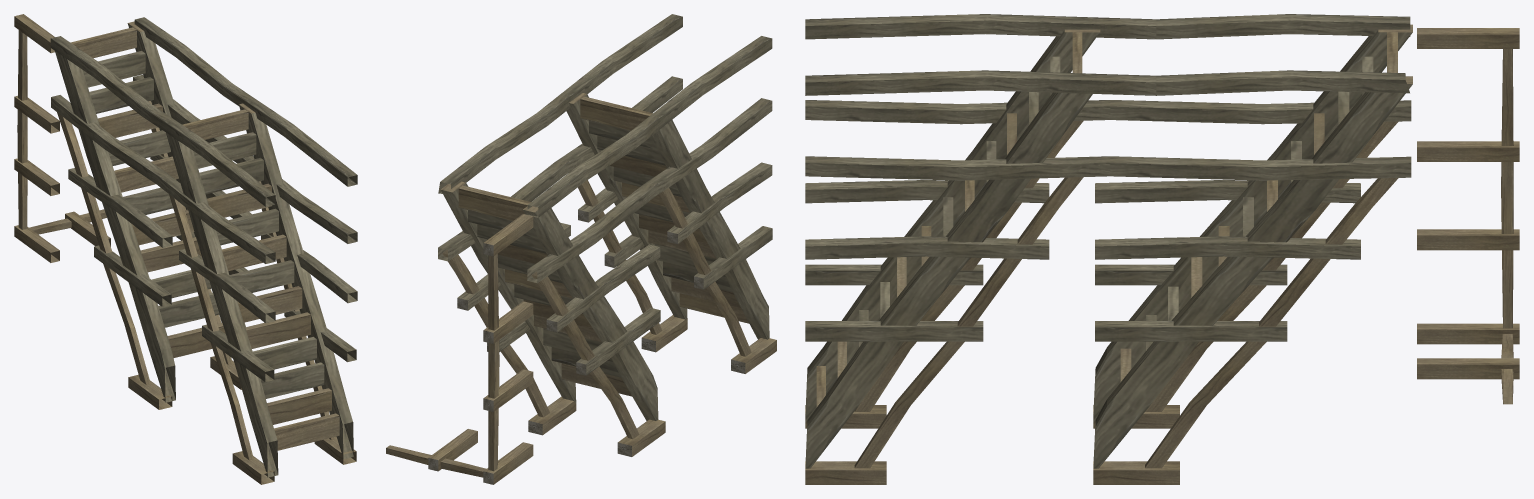
The model's file is Pirate_Bar_Stairs_A.fbx.
3 views of the same model, side by side, from view 1: azimuth 30°, elevation 25°; view 2: azimuth 150°, elevation 25°; view 3: azimuth 270°, elevation 25° (orthographic). The views are drawn at different scales.
Parts seen in each view (by area): view 1: Pirate_Bar_Stairs_A; view 2: Pirate_Bar_Stairs_A; view 3: Pirate_Bar_Stairs_A.
Part boxes in pixels (box(x1,y1,x2,y2)): Pirate_Bar_Stairs_A: box(14, 14, 357, 484); Pirate_Bar_Stairs_A: box(386, 14, 776, 484); Pirate_Bar_Stairs_A: box(805, 14, 1519, 484).
Size of the model in its own units: 2.53 by 6.5 by 10.3.
